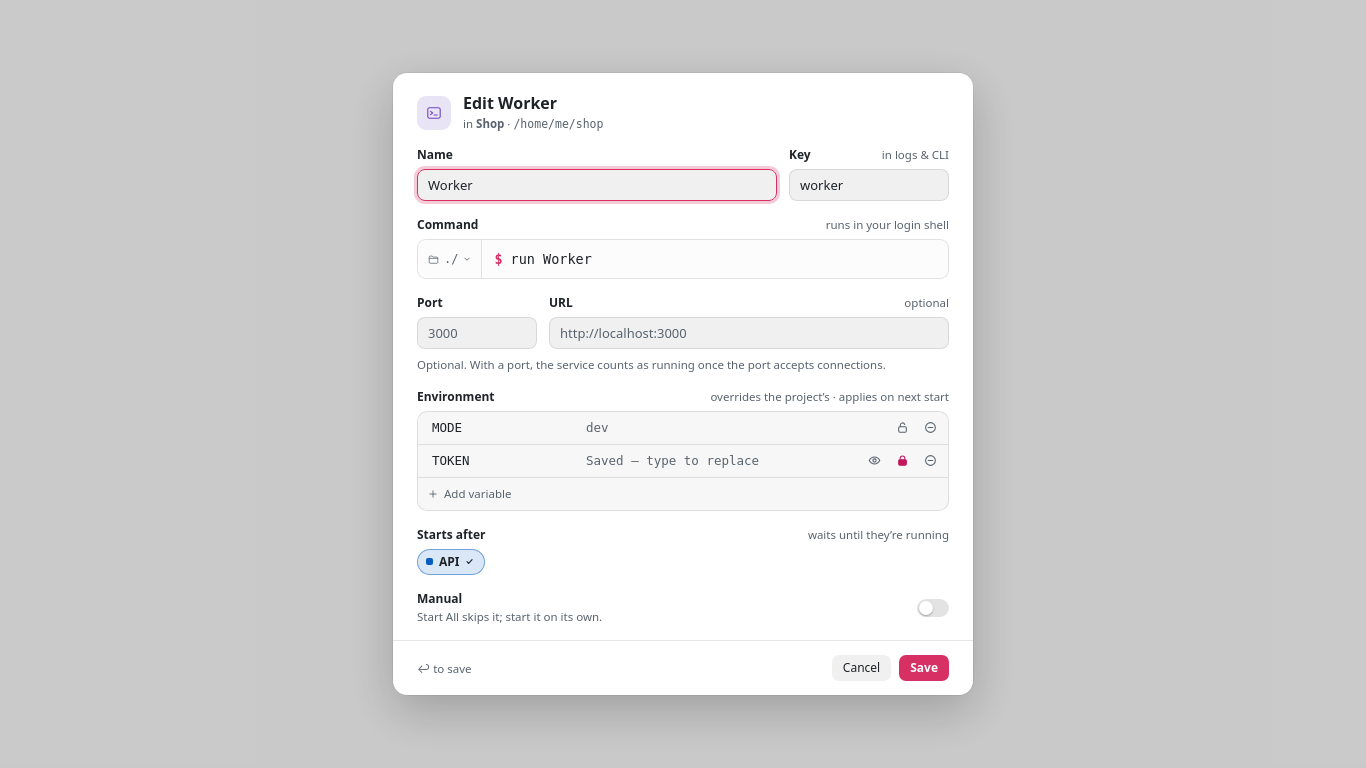
Scenario: Sheets › reveals a stored Secret from its layer
What coordinates should you click on to do the following:
click the button named "Reveal the value of TOKEN"
I would click on:
 (874, 461)
Its box is top-left (862, 449), bottom-right (886, 473).
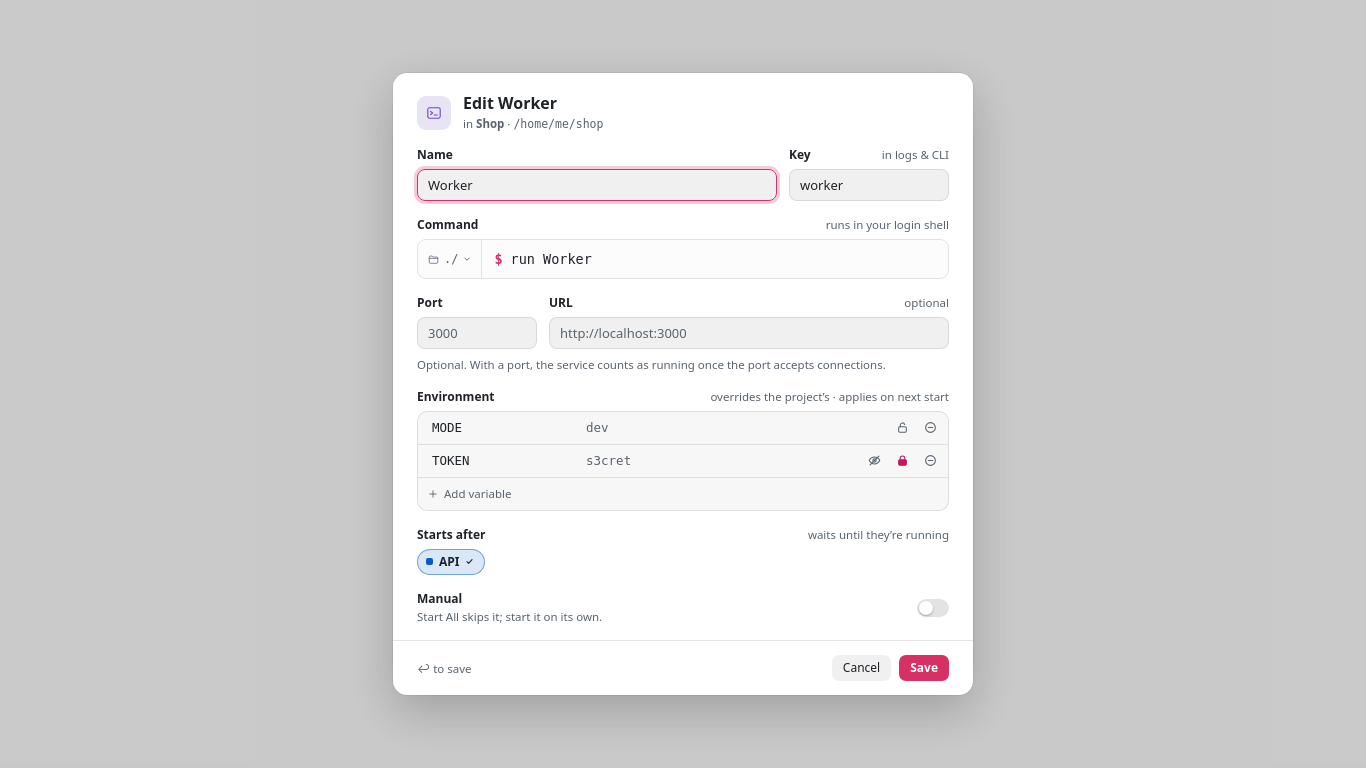
Expected: the field named "Value of TOKEN" holds "s3cret", top-left (582, 448), bottom-right (858, 474)
